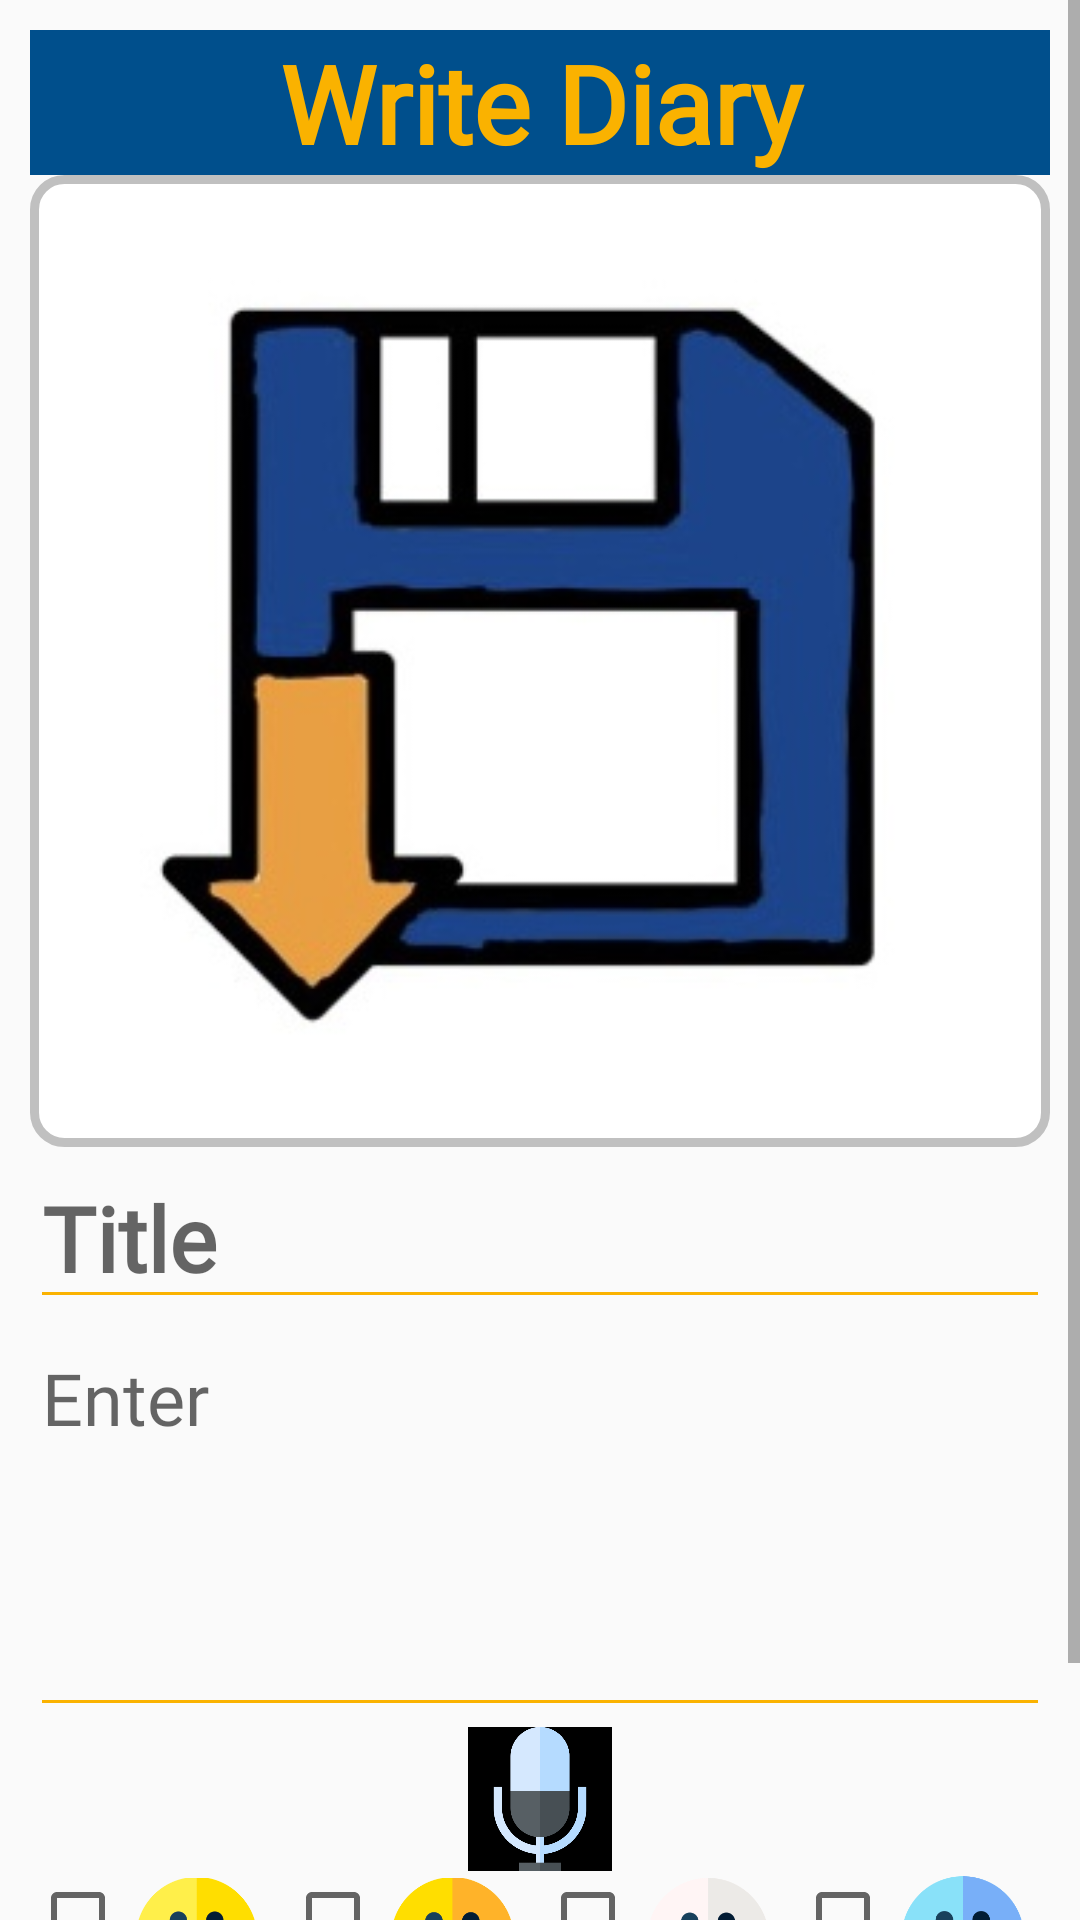

Where to tap for icons on this 1080 x 1920 app screen, as (x,y):
record: (540,1799)
